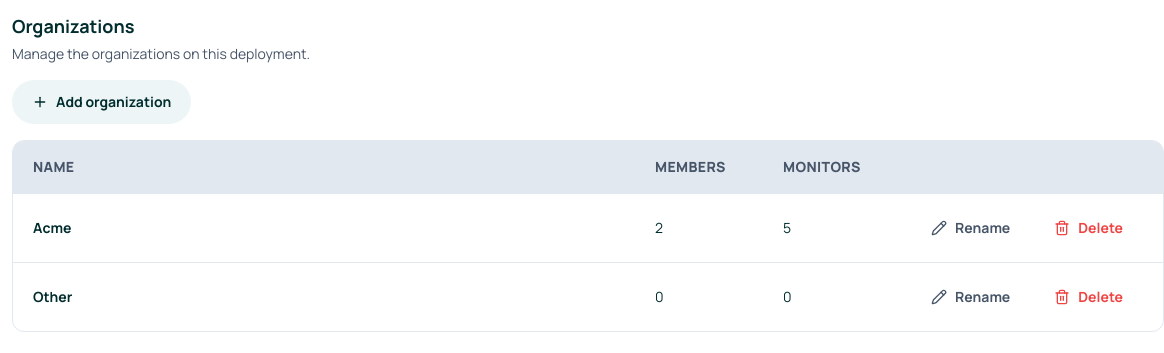
organizations section › aborts a rename without saving
This screenshot has width=1164, height=353.
Click the button with aria-label "Rename Acme".
click(971, 228)  # box [911, 206, 1030, 250]
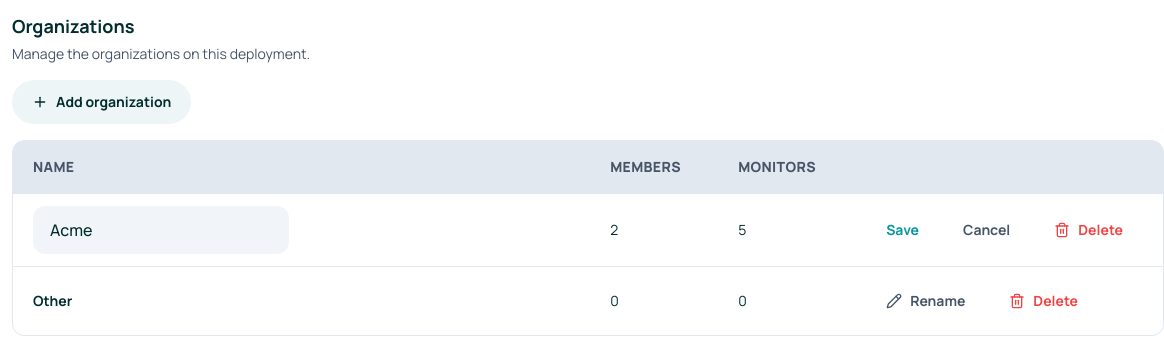
Replace the text in the field named "Rename Acme" with "Renamed" at (161, 230), box [50, 219, 272, 241]
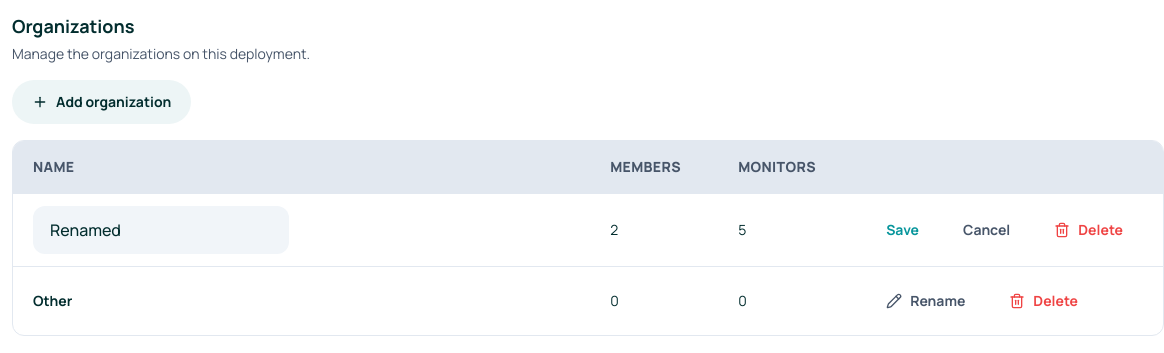
Click the button "Cancel".
click(987, 230)  # box [943, 208, 1030, 252]
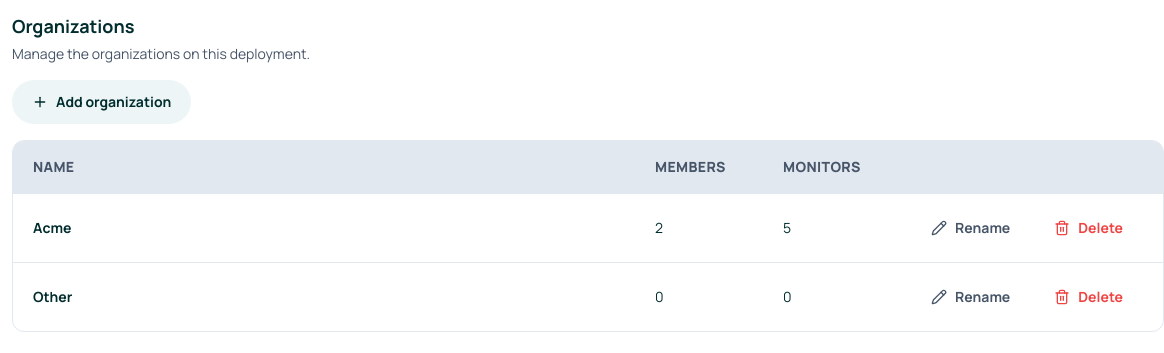
Expected: the text "Acme" is shown, [33, 218, 71, 237]
